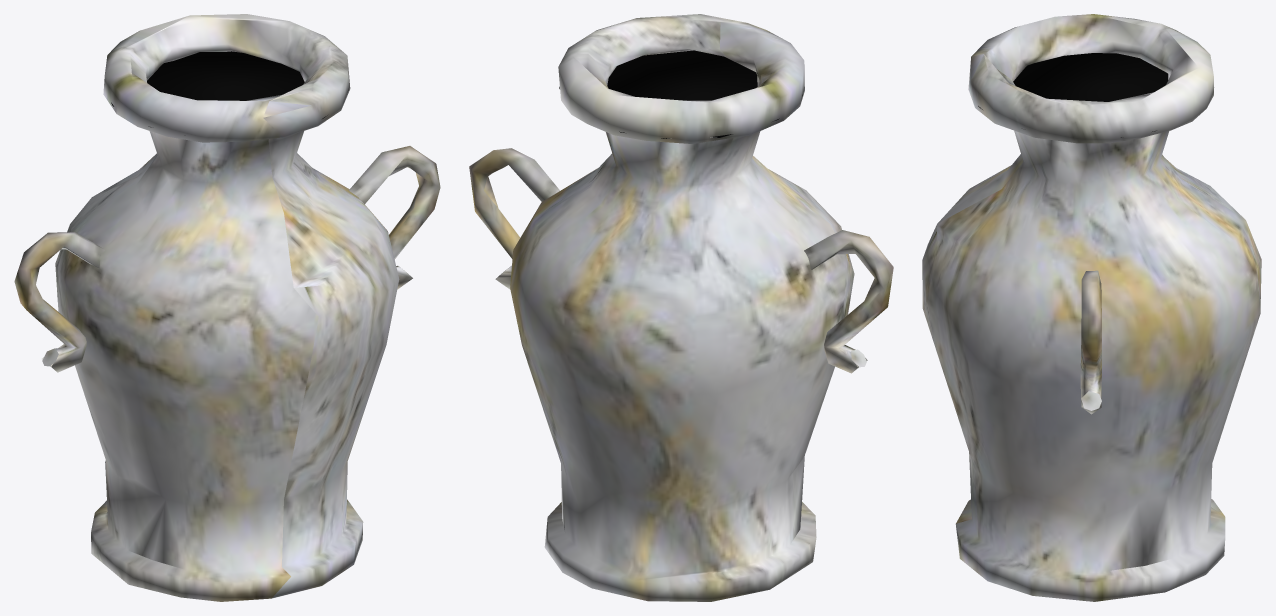
The model's file is vase_1.fbx.
The picture shows the model from 3 angles, left to right: view 1: azimuth 30°, elevation 25°; view 2: azimuth 150°, elevation 25°; view 3: azimuth 270°, elevation 25°; orthographic projection.
Parts seen in each view (by area): view 1: Circle, Cube.001, Cube.002; view 2: Circle, Cube.001, Cube.002; view 3: Circle, Cube.002.
Boxes of the visible parts, bbox=[...] form: Circle: bbox=[55, 14, 399, 601]; Cube.001: bbox=[14, 232, 104, 372]; Cube.002: bbox=[349, 146, 440, 289]; Circle: bbox=[510, 14, 854, 601]; Cube.001: bbox=[804, 230, 893, 373]; Cube.002: bbox=[469, 148, 559, 289]; Circle: bbox=[922, 14, 1261, 601]; Cube.002: bbox=[1080, 270, 1101, 414].
Size of the model in its own units: 357 by 395 by 250.
